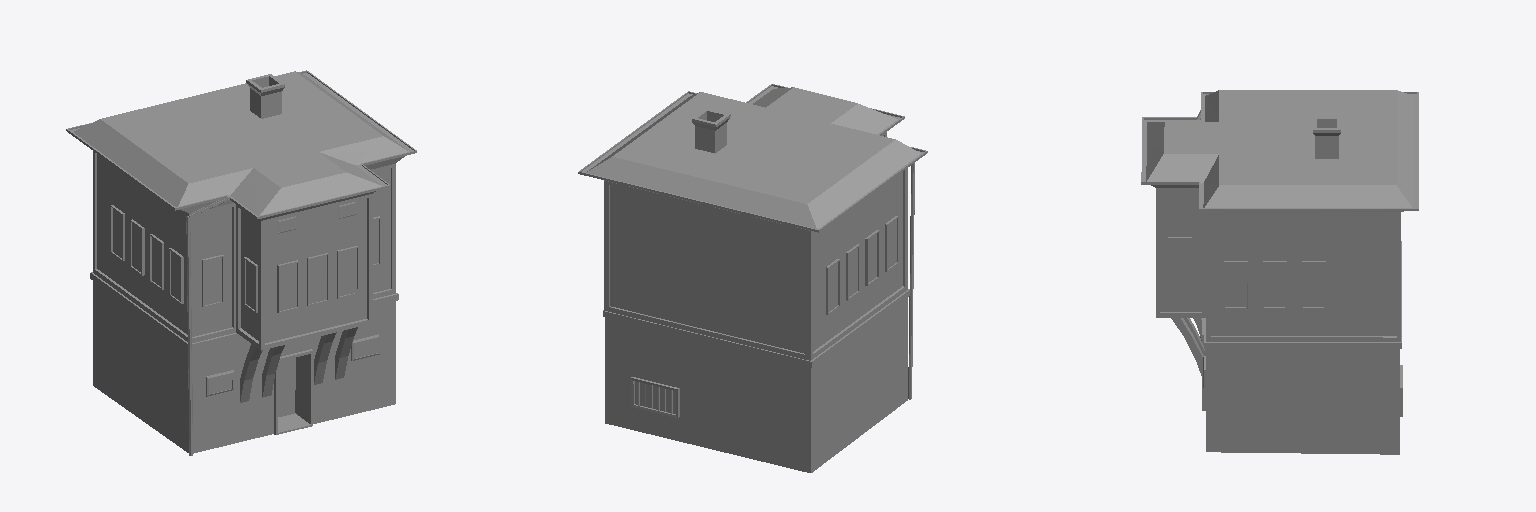
The model's file is house.obj.
3 renders of one model, left to right at view 1: azimuth 30°, elevation 25°; view 2: azimuth 150°, elevation 25°; view 3: azimuth 270°, elevation 25°, orthographic.
Visible parts, largest first — view 1: city_house_2; view 2: city_house_2; view 3: city_house_2.
Boxes of the visible parts, x1=… form: city_house_2: x1=66, y1=70, x2=416, y2=455; city_house_2: x1=578, y1=84, x2=927, y2=472; city_house_2: x1=1141, y1=90, x2=1418, y2=454.
Size of the model in its own units: 4.02 by 4.74 by 4.01.